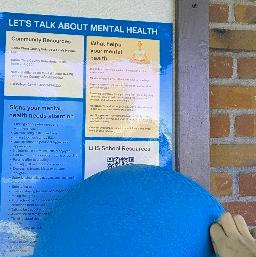algae: (27, 161, 248, 257)
